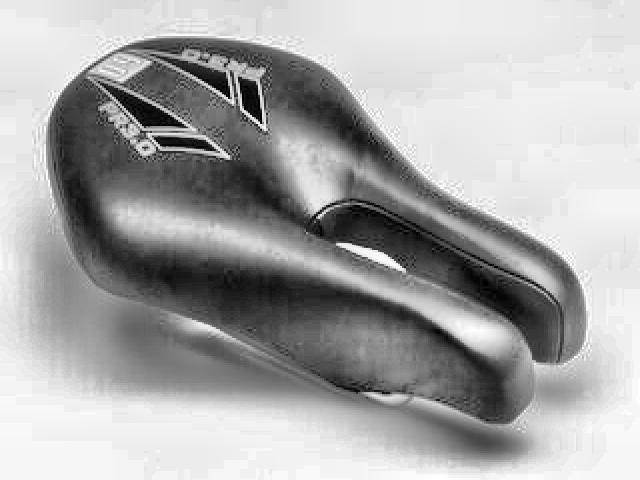saddle: (41, 30, 593, 436)
